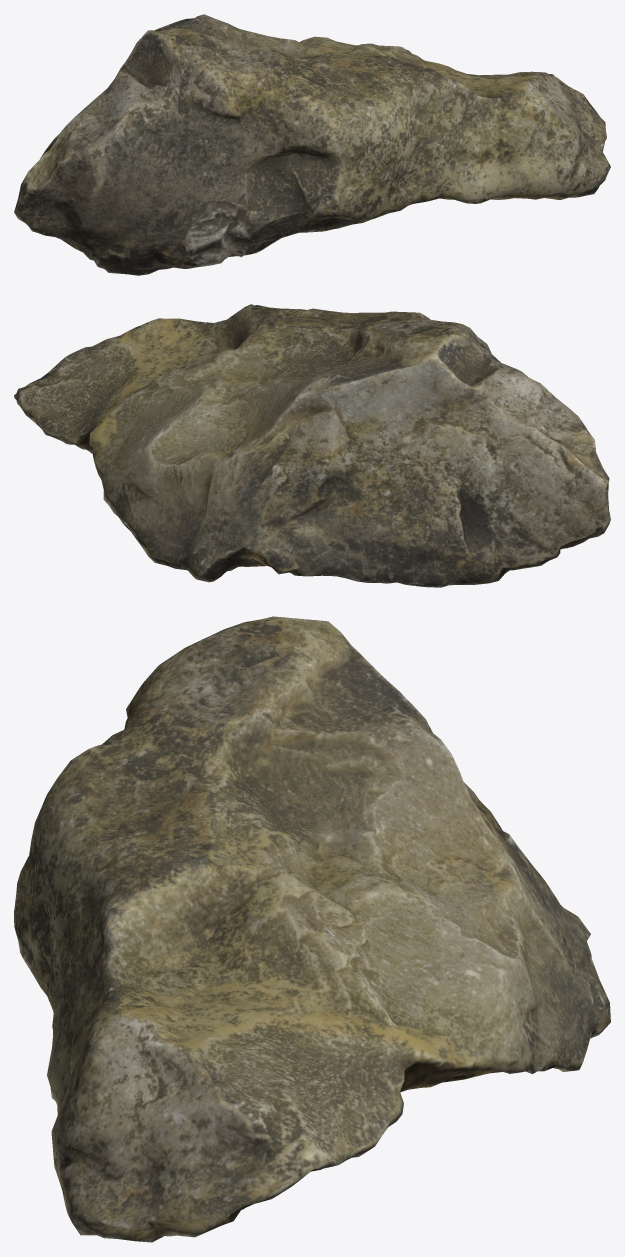
File: Rock3.fbx
The picture shows the model from 3 angles, top to bottom: view 1: azimuth 30°, elevation 25°; view 2: azimuth 150°, elevation 25°; view 3: azimuth 270°, elevation 25°; orthographic projection. The views are drawn at different scales.
Visible parts, largest first — view 1: moss rock 10; view 2: moss rock 10; view 3: moss rock 10.
Boxes of the visible parts, bbox=[...] form: moss rock 10: bbox=[14, 14, 610, 275]; moss rock 10: bbox=[14, 304, 610, 587]; moss rock 10: bbox=[14, 616, 610, 1242].
Size of the model in its own units: 176 by 60.85 by 98.18.
